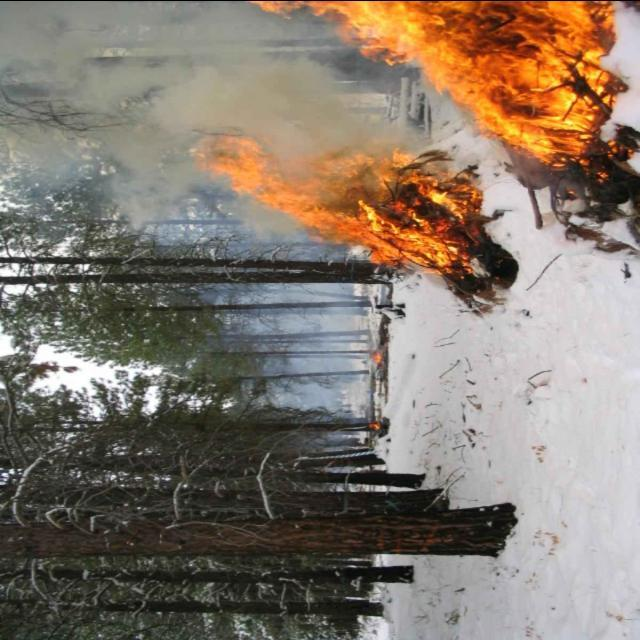Fire: (209, 0, 607, 259)
